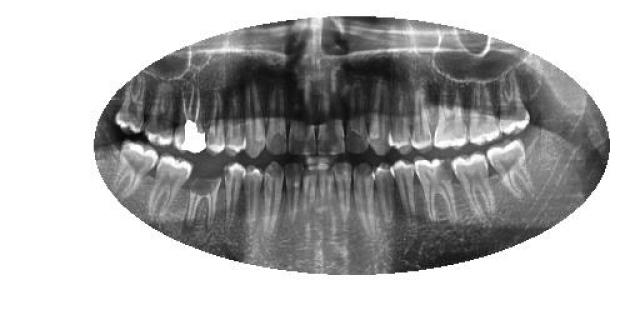Cavity: (412, 154, 457, 221), (184, 172, 222, 228)
Implant: (172, 83, 208, 155)
